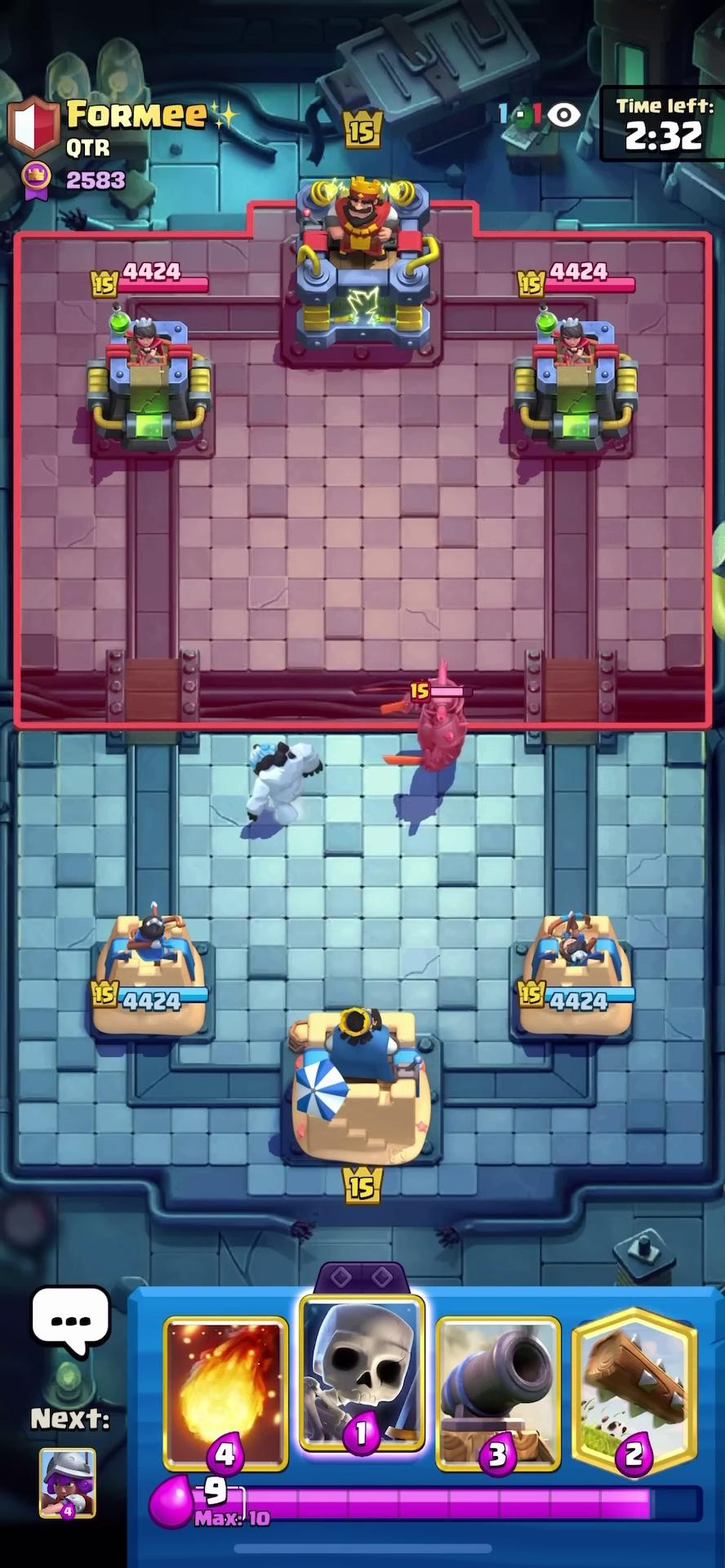ice_golem: (233, 727, 320, 839)
